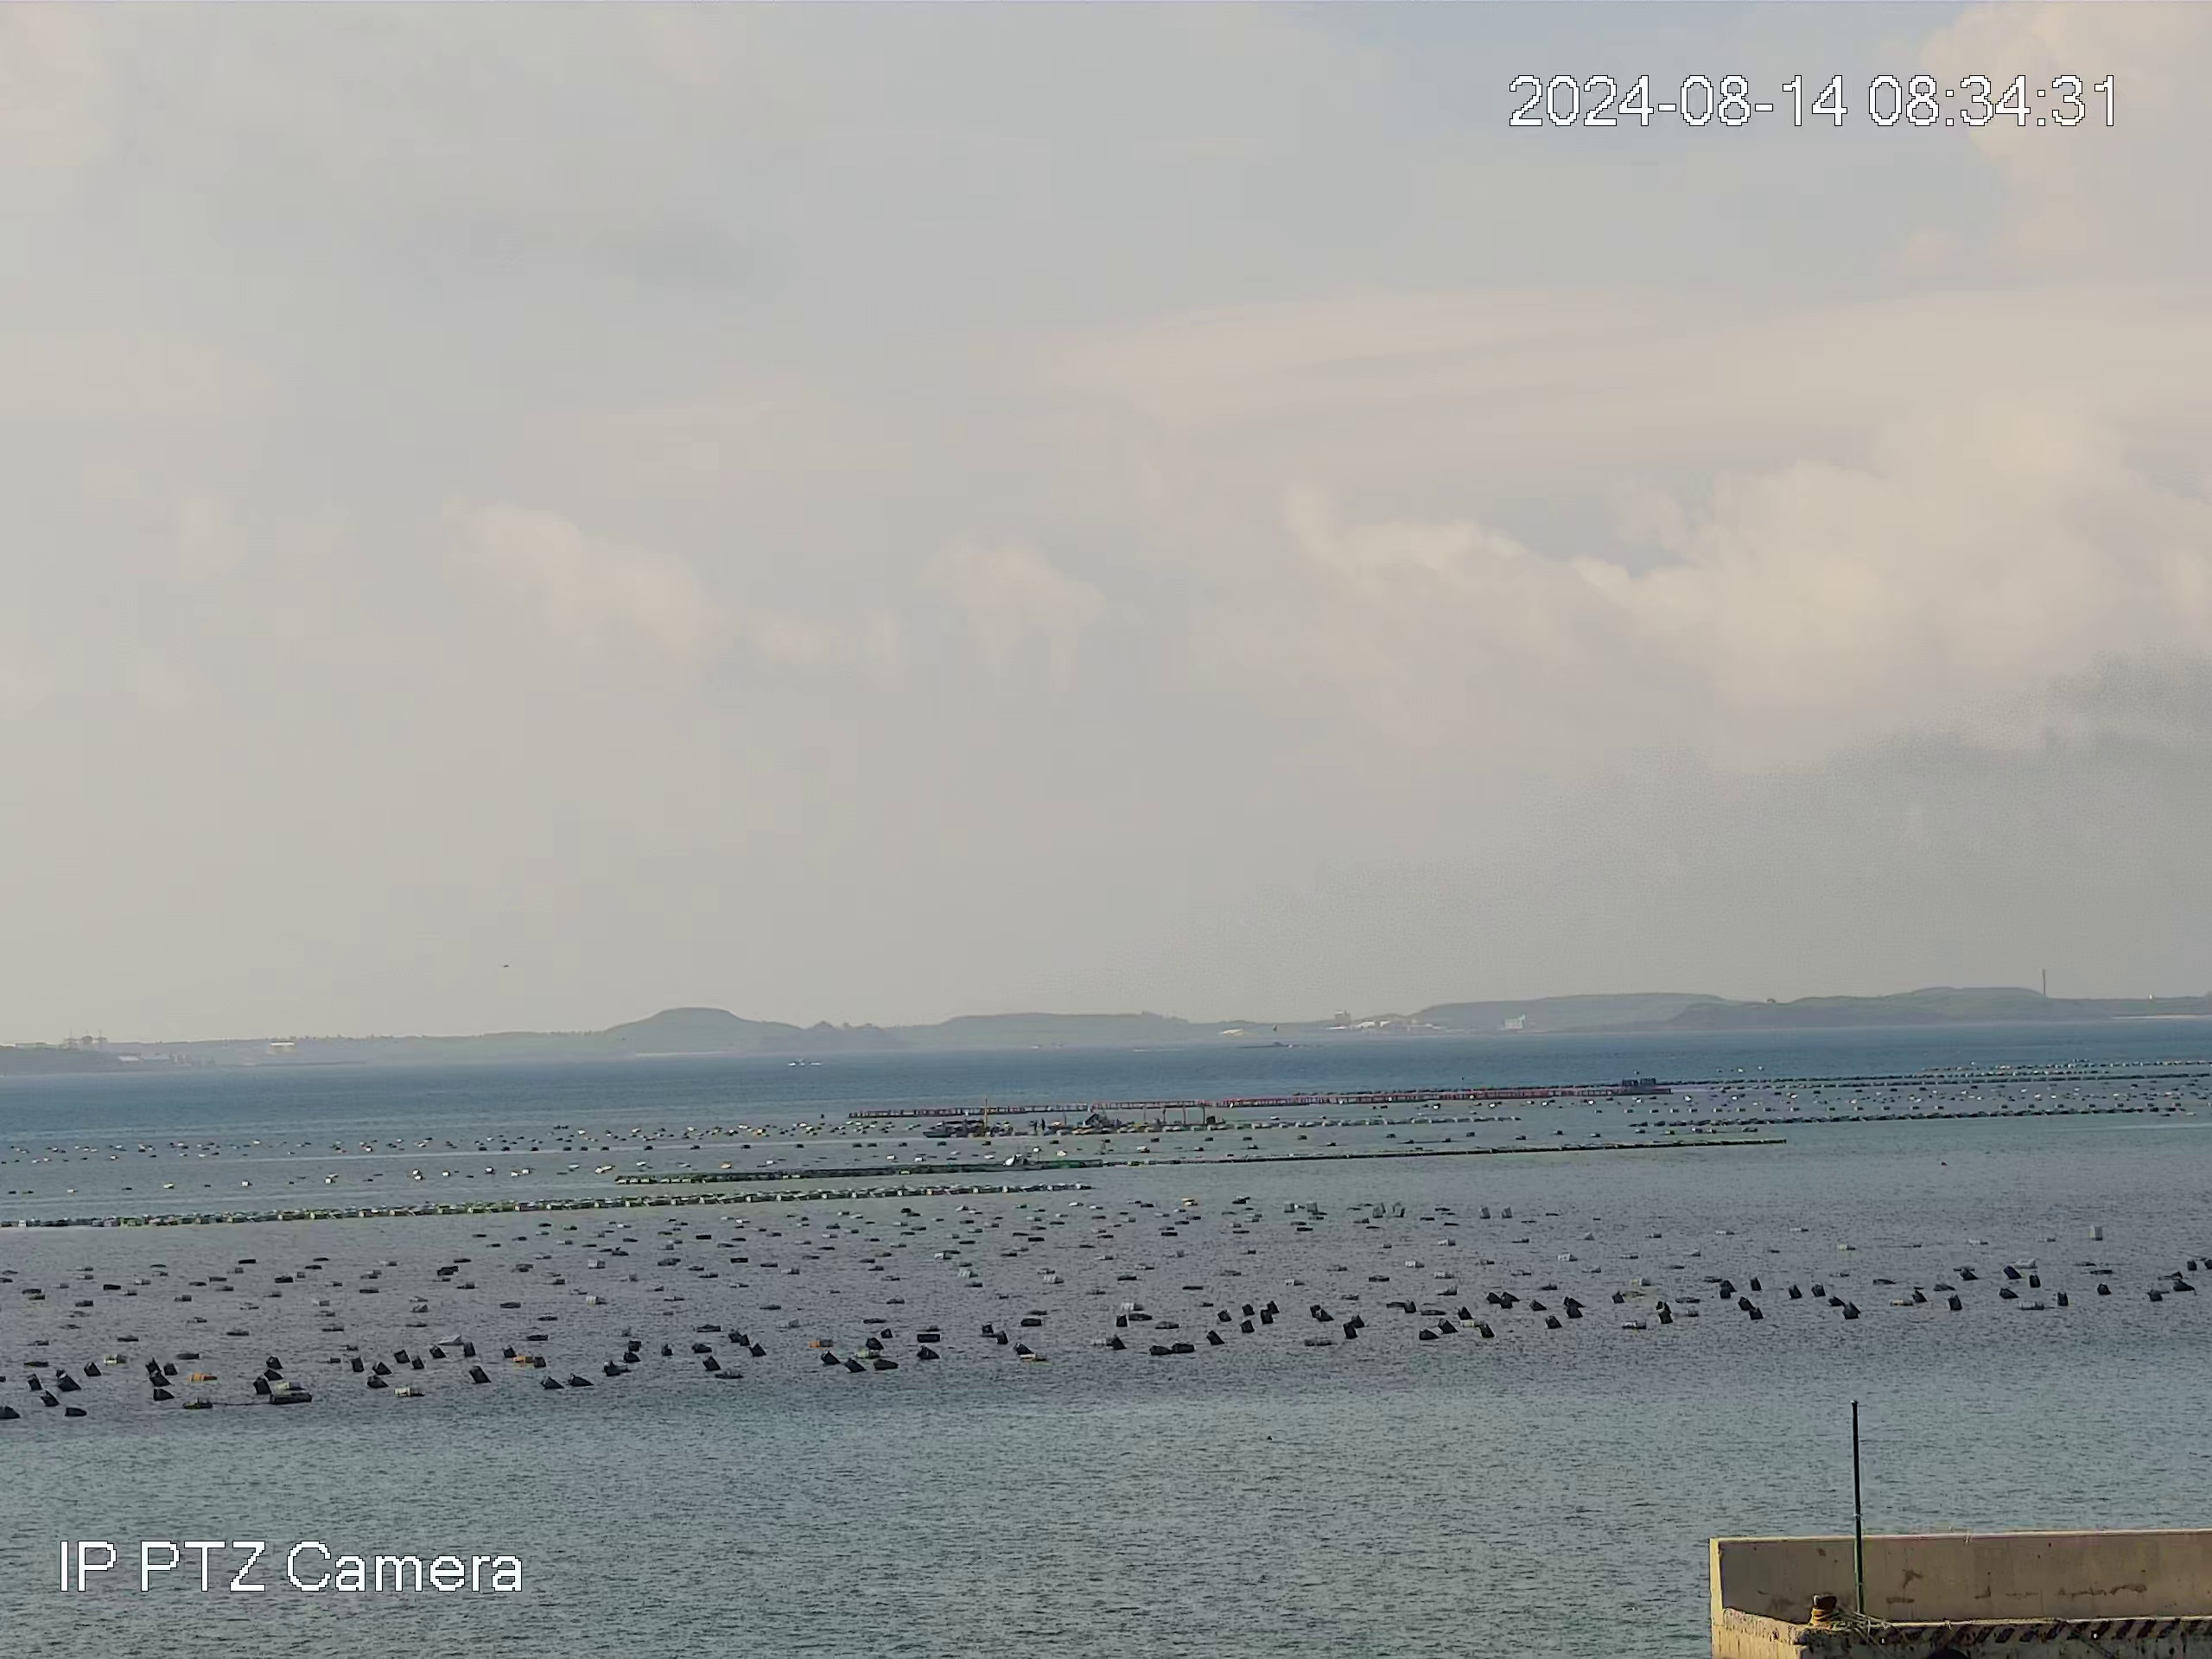boat: (927, 1119, 989, 1141)
